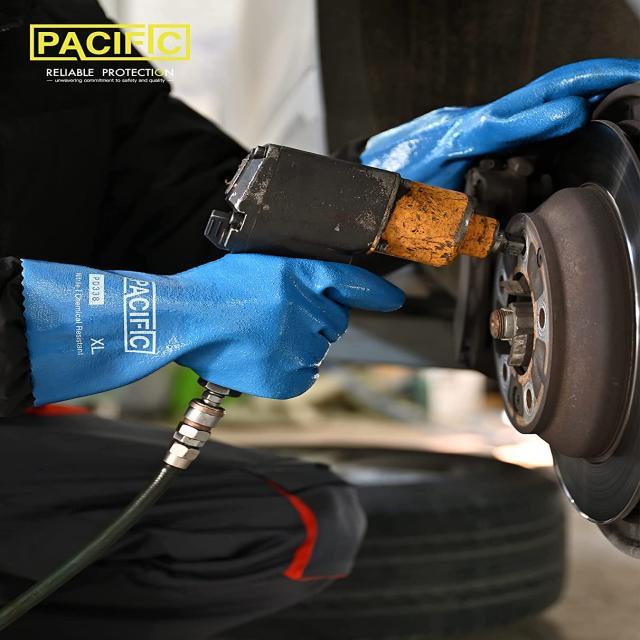gloves: (18, 254, 404, 401), (357, 57, 640, 190)
